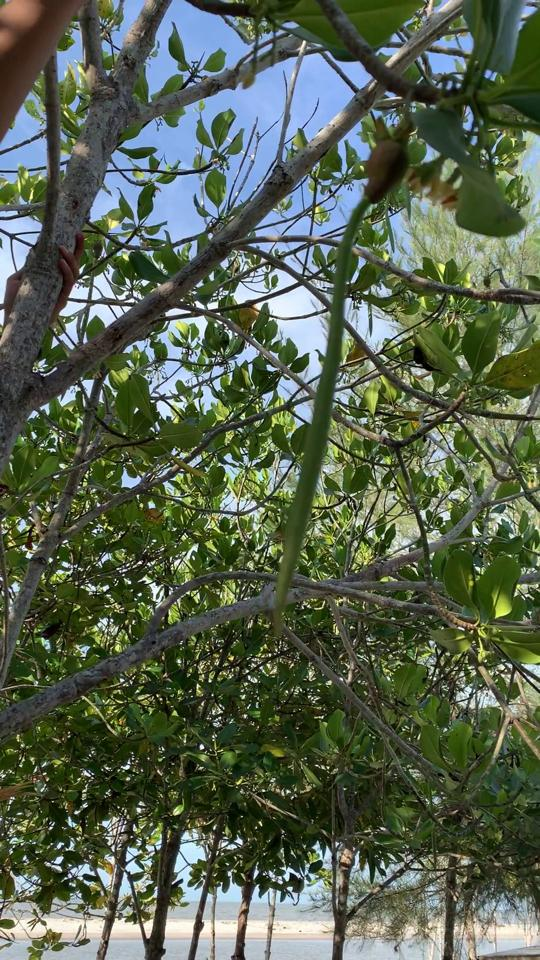mentah: (252, 103, 420, 660)
